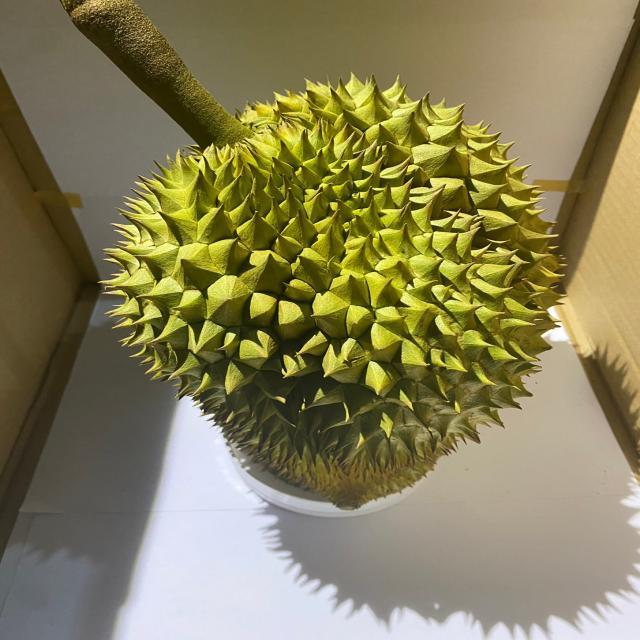immature: (96, 70, 567, 510)
